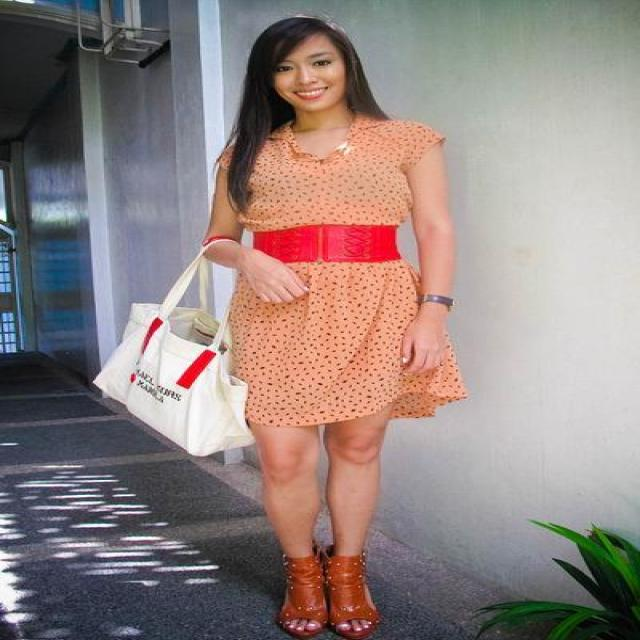bag: (96, 243, 253, 463)
dress: (222, 117, 464, 434)
shoe: (282, 555, 376, 639)
